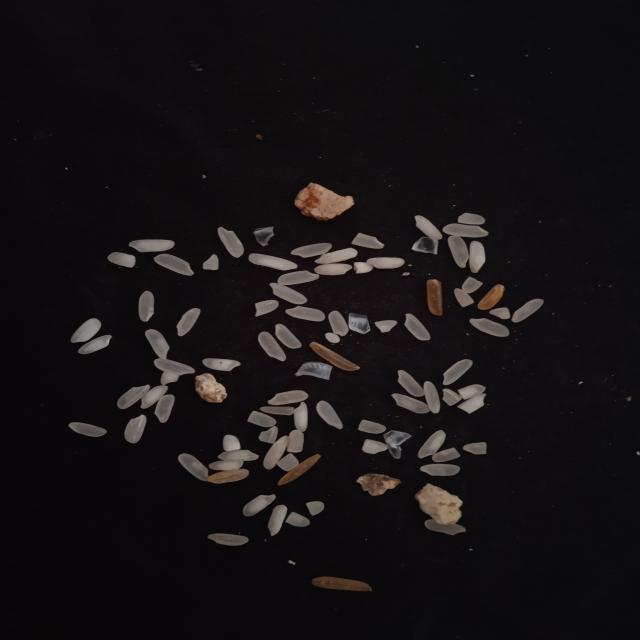Broken: (309, 342, 360, 371), (278, 454, 321, 485), (312, 576, 372, 592), (478, 284, 505, 310), (208, 468, 250, 484), (456, 393, 486, 414), (426, 279, 443, 316), (351, 233, 385, 249), (328, 311, 349, 336), (247, 411, 277, 427), (107, 252, 136, 268), (457, 384, 486, 400), (276, 453, 300, 472), (358, 419, 386, 434), (255, 300, 279, 317), (432, 448, 461, 462), (208, 460, 244, 471), (362, 439, 388, 454), (454, 288, 474, 307), (287, 430, 304, 452), (458, 212, 486, 225), (286, 512, 310, 527), (462, 276, 482, 294), (260, 406, 294, 416), (258, 426, 278, 443), (222, 434, 241, 451), (160, 371, 180, 386), (374, 320, 398, 332), (463, 442, 487, 454), (306, 501, 324, 516), (203, 254, 219, 270), (489, 308, 510, 320), (354, 262, 374, 274), (325, 332, 340, 343)
Full: (263, 435, 289, 470), (178, 453, 209, 482), (249, 253, 298, 271), (154, 254, 194, 276), (218, 226, 245, 258), (117, 384, 151, 409), (258, 332, 286, 362), (316, 400, 344, 430), (270, 282, 308, 304), (392, 393, 431, 414), (418, 430, 446, 459), (70, 318, 102, 343), (512, 298, 544, 323), (442, 360, 472, 386), (145, 329, 170, 360), (470, 318, 510, 337), (243, 494, 276, 517), (154, 358, 196, 376), (404, 313, 430, 341), (398, 370, 426, 396), (448, 235, 470, 268), (176, 308, 201, 337), (314, 248, 358, 264), (414, 215, 442, 240), (442, 223, 488, 238), (424, 520, 467, 536), (290, 242, 332, 258), (124, 414, 146, 444), (275, 324, 302, 348), (78, 335, 112, 354), (268, 504, 288, 536), (278, 270, 320, 285), (154, 394, 175, 423), (286, 306, 326, 321), (268, 390, 308, 405), (68, 422, 107, 437), (423, 381, 441, 413), (129, 240, 175, 252), (469, 241, 486, 273), (208, 533, 249, 546), (420, 463, 460, 476), (138, 290, 154, 322), (202, 358, 241, 371), (314, 264, 353, 276), (366, 257, 405, 269), (217, 450, 259, 461), (294, 402, 308, 432), (442, 388, 462, 406)
